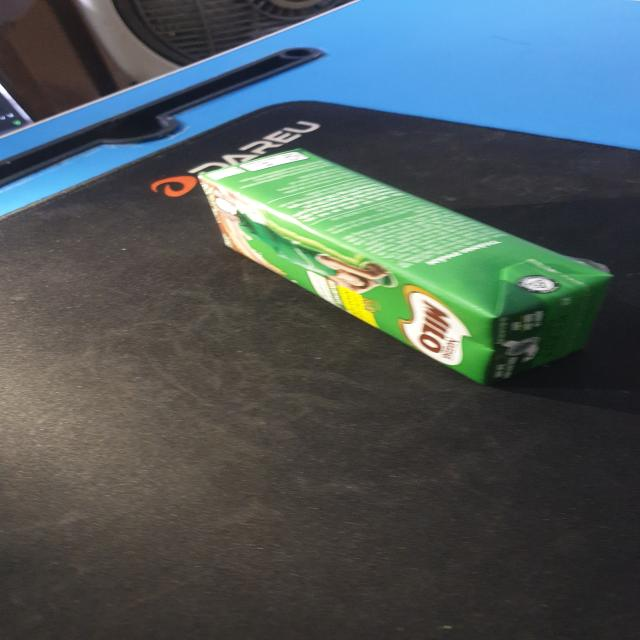Milo: (196, 145, 611, 387)
